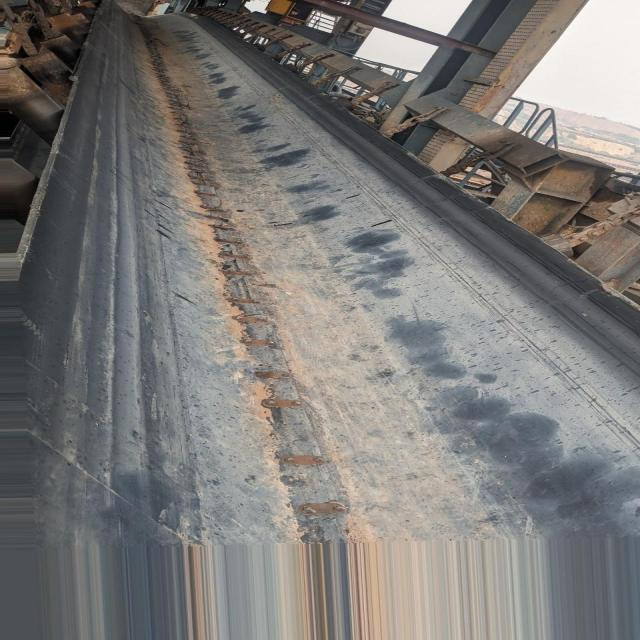Roller: (13, 89, 66, 146), (2, 158, 38, 223), (40, 33, 84, 73)
patch work: (132, 18, 365, 545)
